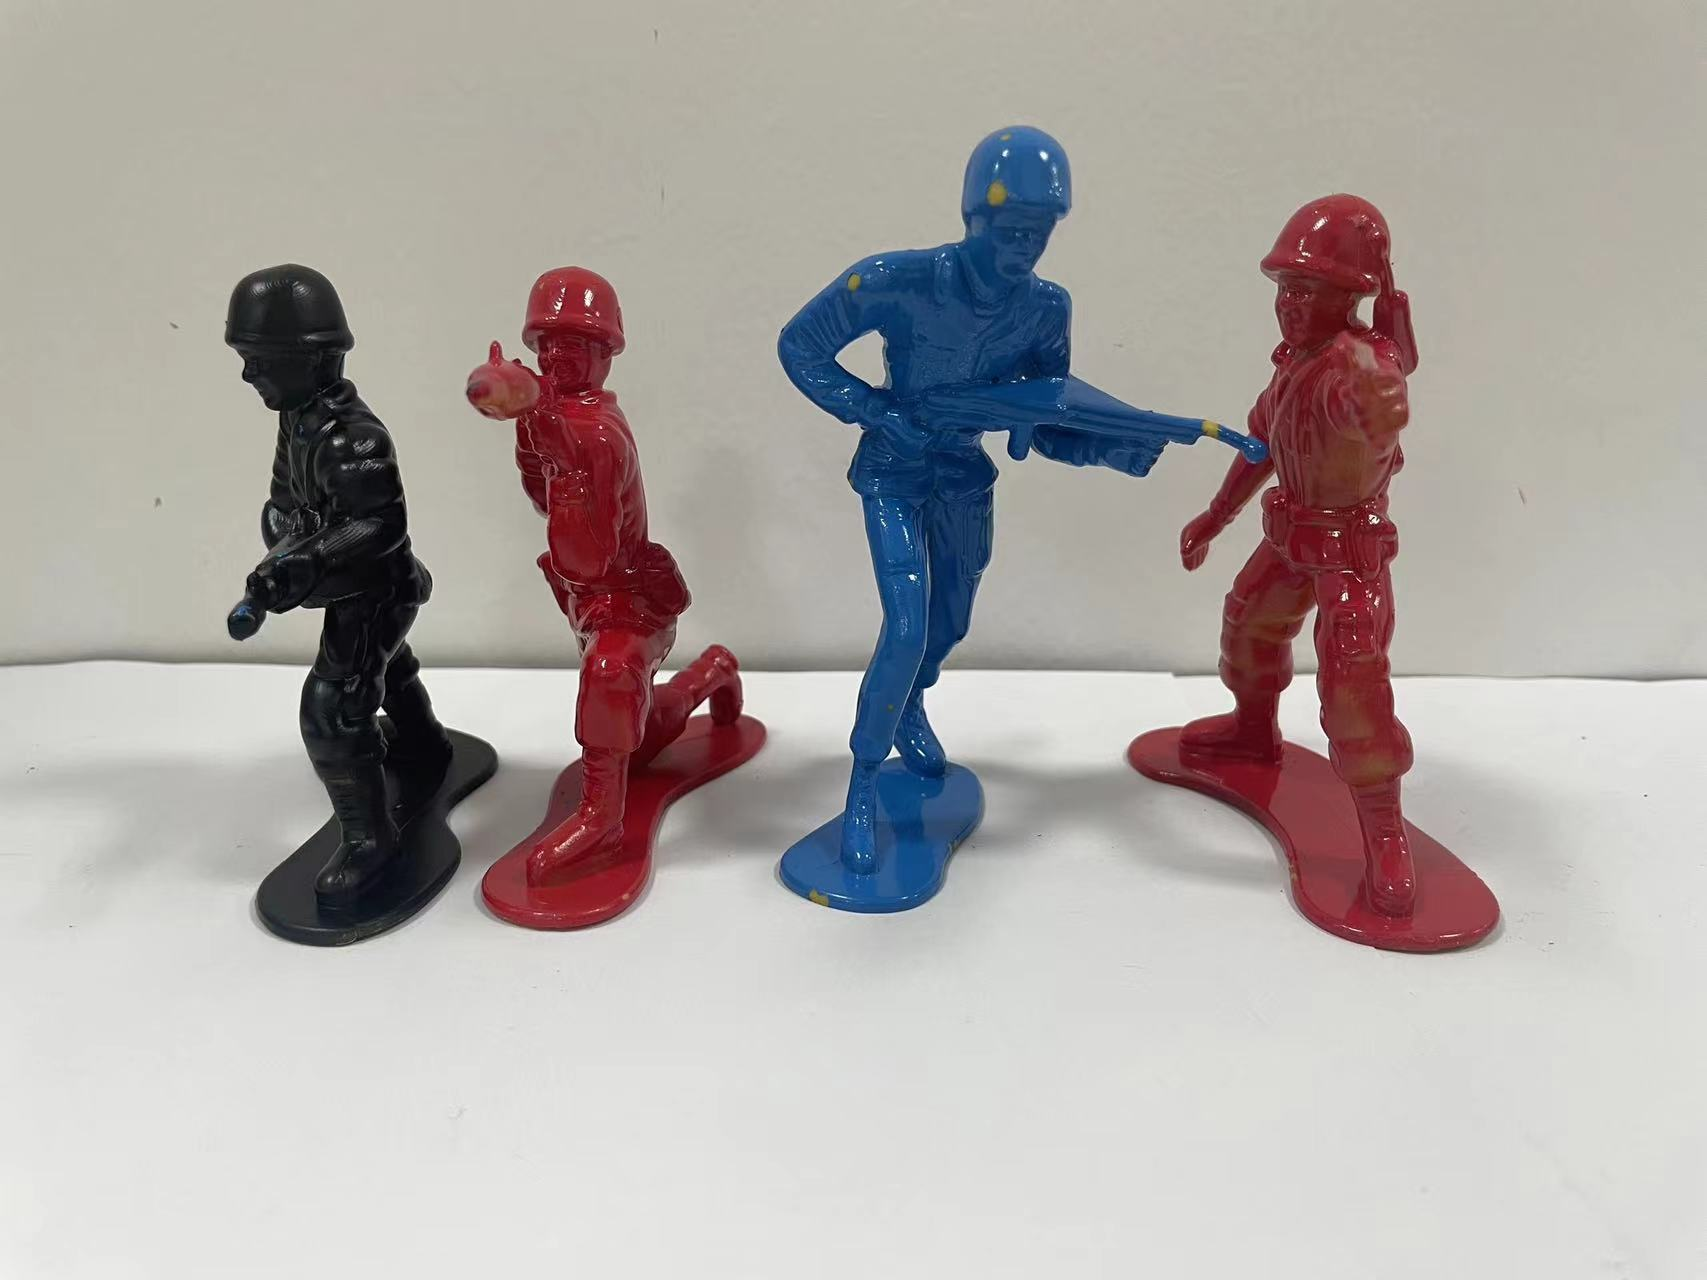black: (160, 211, 491, 982)
blue: (746, 110, 1212, 976)
red: (1160, 125, 1620, 1025), (445, 208, 766, 955)
